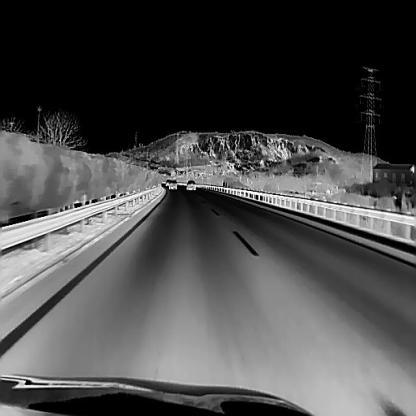car: (185, 179, 195, 189), (168, 179, 177, 189), (165, 178, 171, 185)
